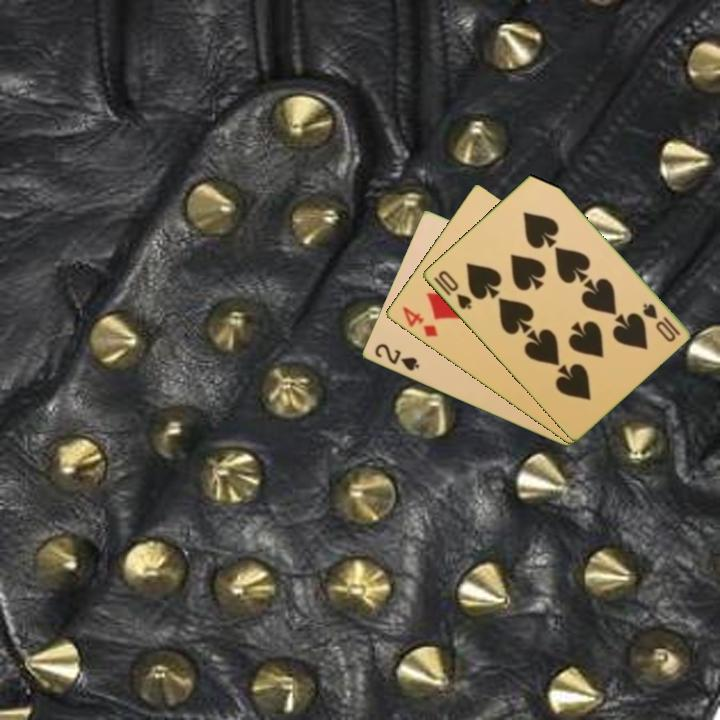10s: (639, 300, 683, 345), (434, 267, 474, 312)
2s: (371, 340, 422, 374)
4d: (399, 303, 440, 340)
